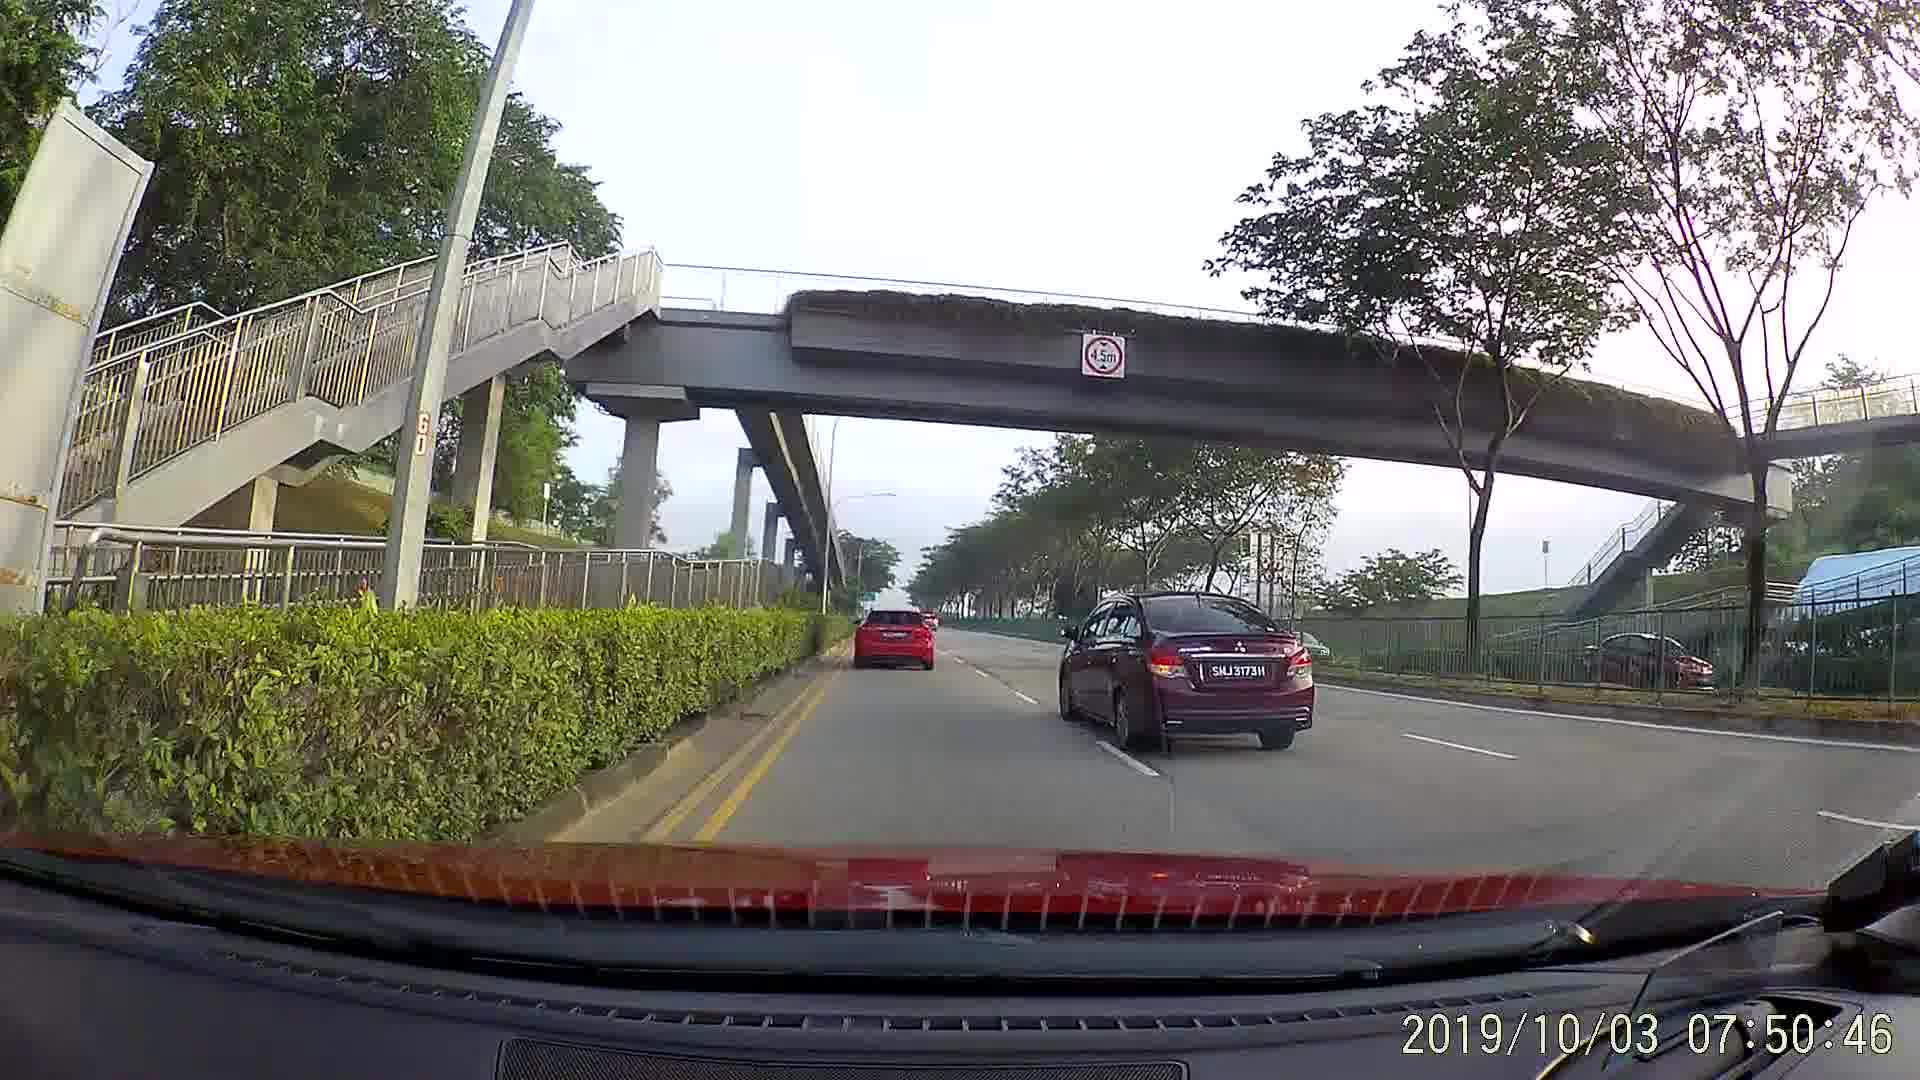car: (1054, 588, 1316, 753), (1577, 625, 1724, 691), (848, 604, 935, 665)
